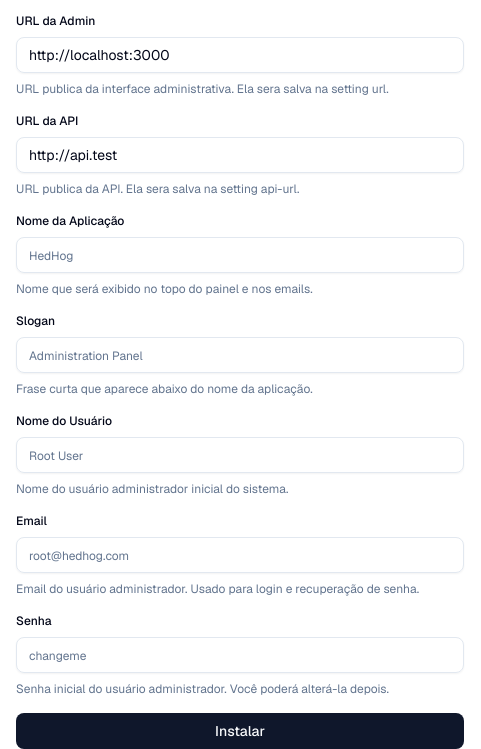
Test case: InstallationProvider › submissão do formulário › exibe a mensagem de erro específica retornada pela API
(page scrolled)
Click the button "Instalar" at (240, 731), box x1=16 y1=713 x2=464 y2=748
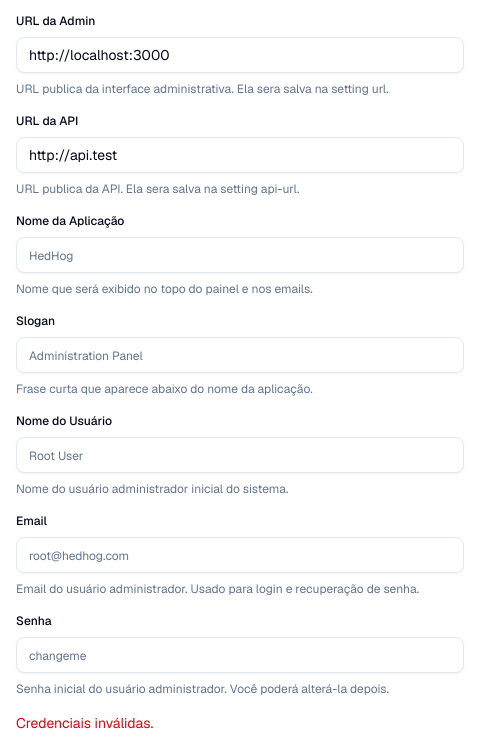
Now the text "Credenciais inválidas." is shown, box x1=16 y1=714 x2=153 y2=732
